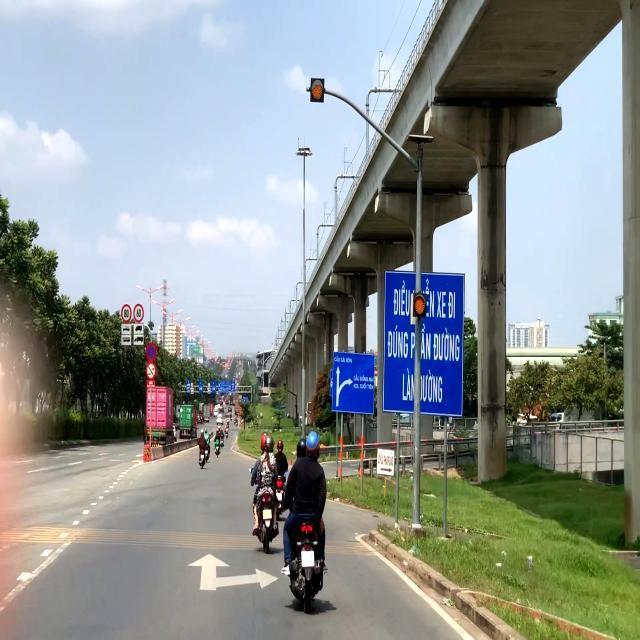P.127: (133, 303, 144, 323), (121, 304, 132, 323)
P.130: (146, 342, 157, 362)
